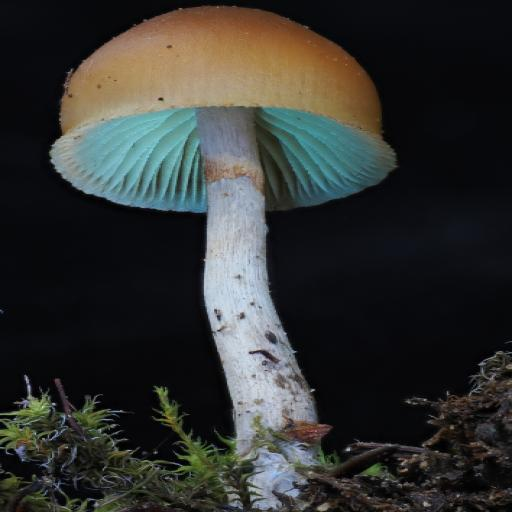mushroom: (42, 3, 424, 366)
